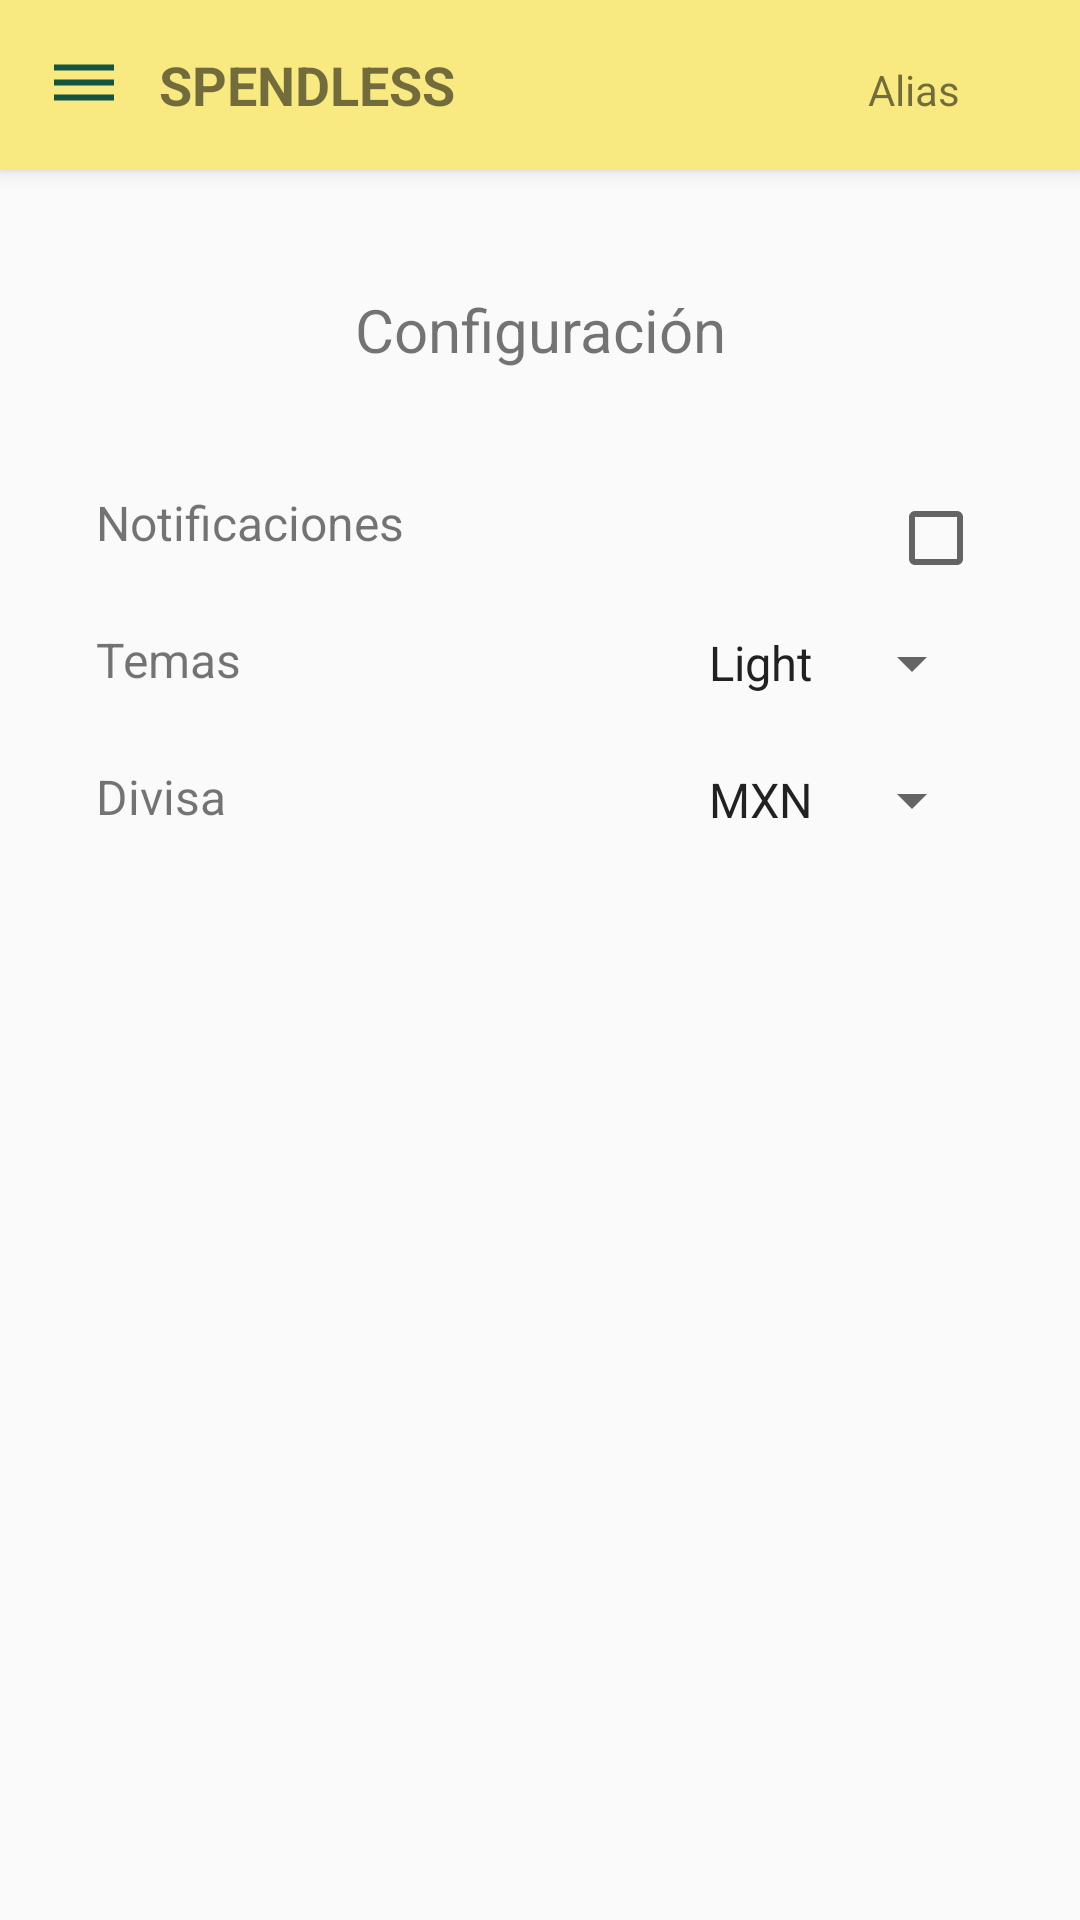

Where to tap for icons on this 1080px×1920px app screen, as point (x, y):
Menú: point (84, 82)
